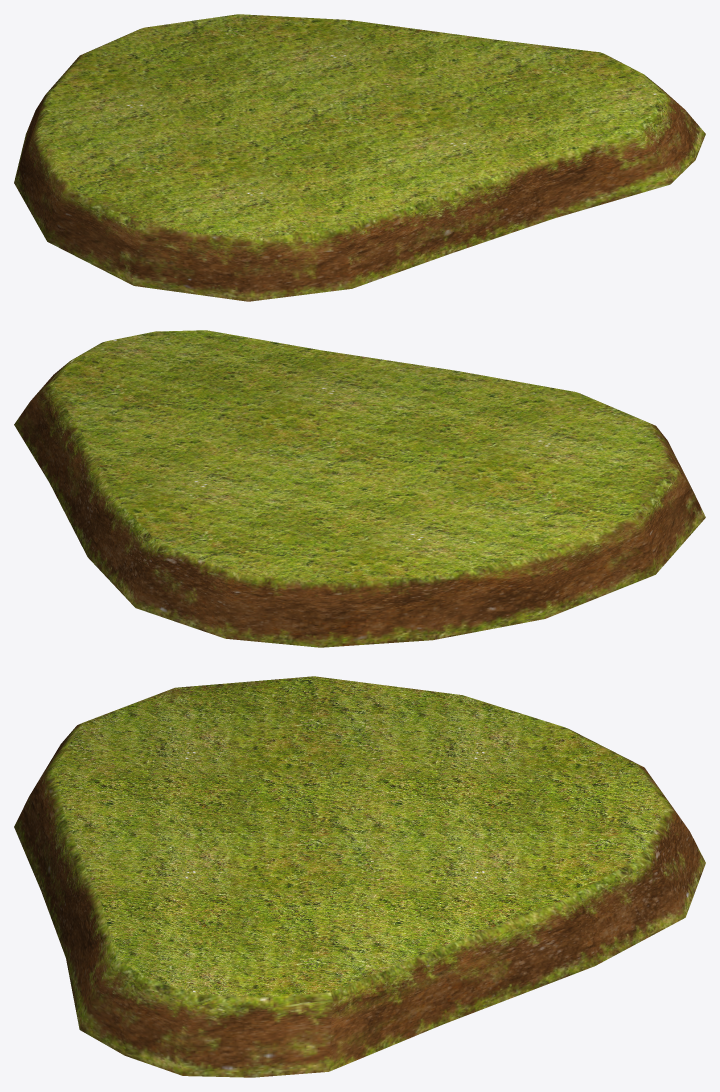
File: ENV2910010.fbx
3 renders of one model, top to bottom at view 1: azimuth 30°, elevation 25°; view 2: azimuth 150°, elevation 25°; view 3: azimuth 270°, elevation 25°, orthographic. The views are drawn at different scales.
Visible parts, largest first — view 1: smENV2910010; view 2: smENV2910010; view 3: smENV2910010.
Part boxes in pixels (x1=…): smENV2910010: x1=14, y1=14, x2=705, y2=301; smENV2910010: x1=14, y1=330, x2=705, y2=647; smENV2910010: x1=14, y1=676, x2=705, y2=1077.
Size of what is drawn, in the model's own units: 2010 by 151 by 1647.
Materials: 1 (1 with a texture image).
